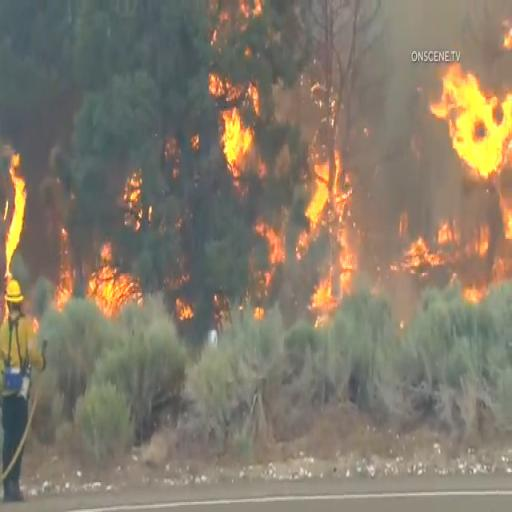fire: (430, 52, 512, 193), (297, 161, 354, 298), (221, 104, 261, 169), (84, 262, 136, 312)
